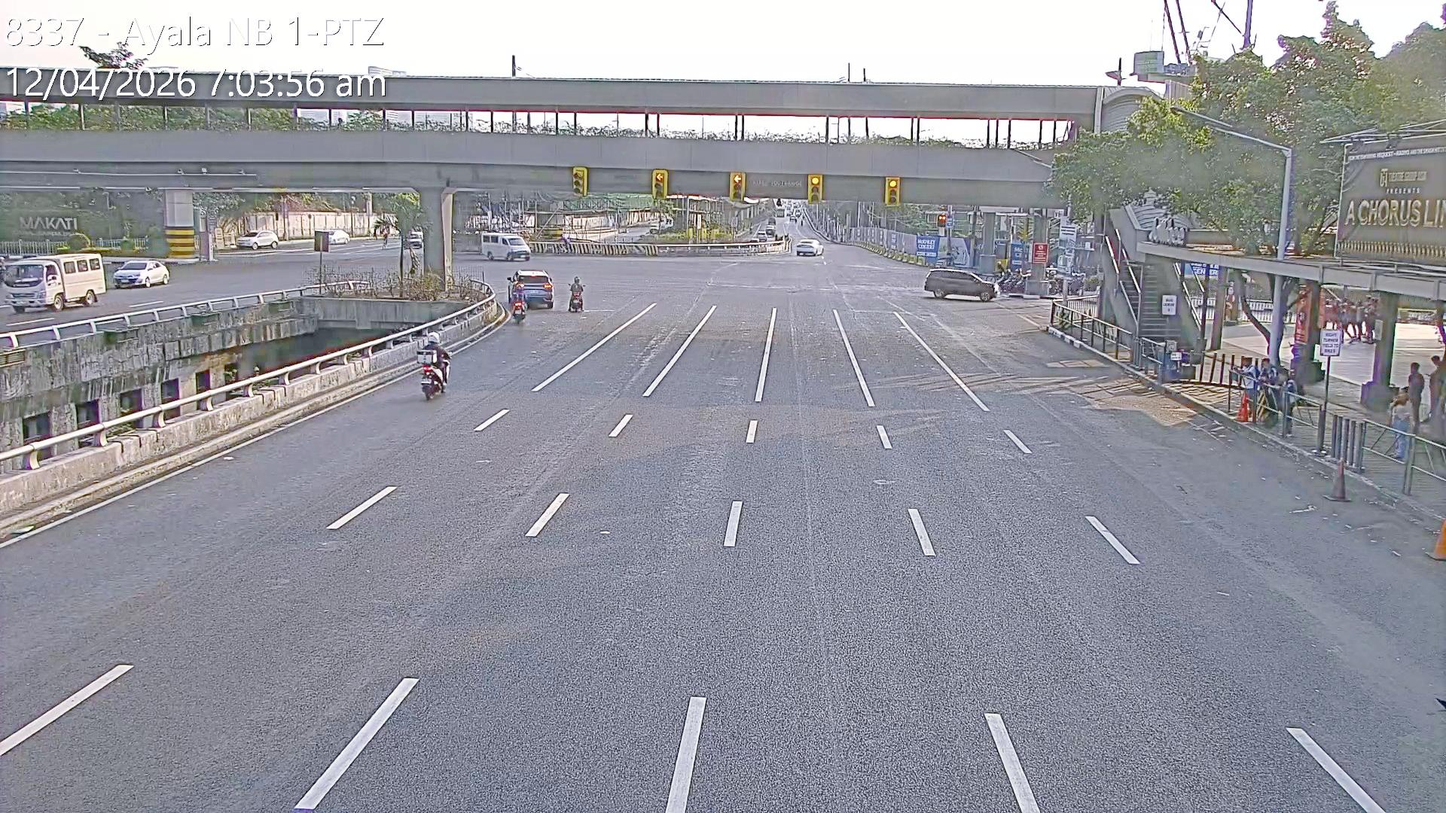Car: (5, 247, 112, 317), (477, 224, 532, 266), (926, 268, 996, 300), (511, 269, 555, 311), (112, 259, 171, 289), (235, 229, 279, 251), (319, 227, 350, 245), (795, 239, 823, 257)
Motor: (415, 343, 449, 400), (508, 283, 527, 321), (566, 278, 584, 312)
Not Accident: (497, 264, 558, 327)
